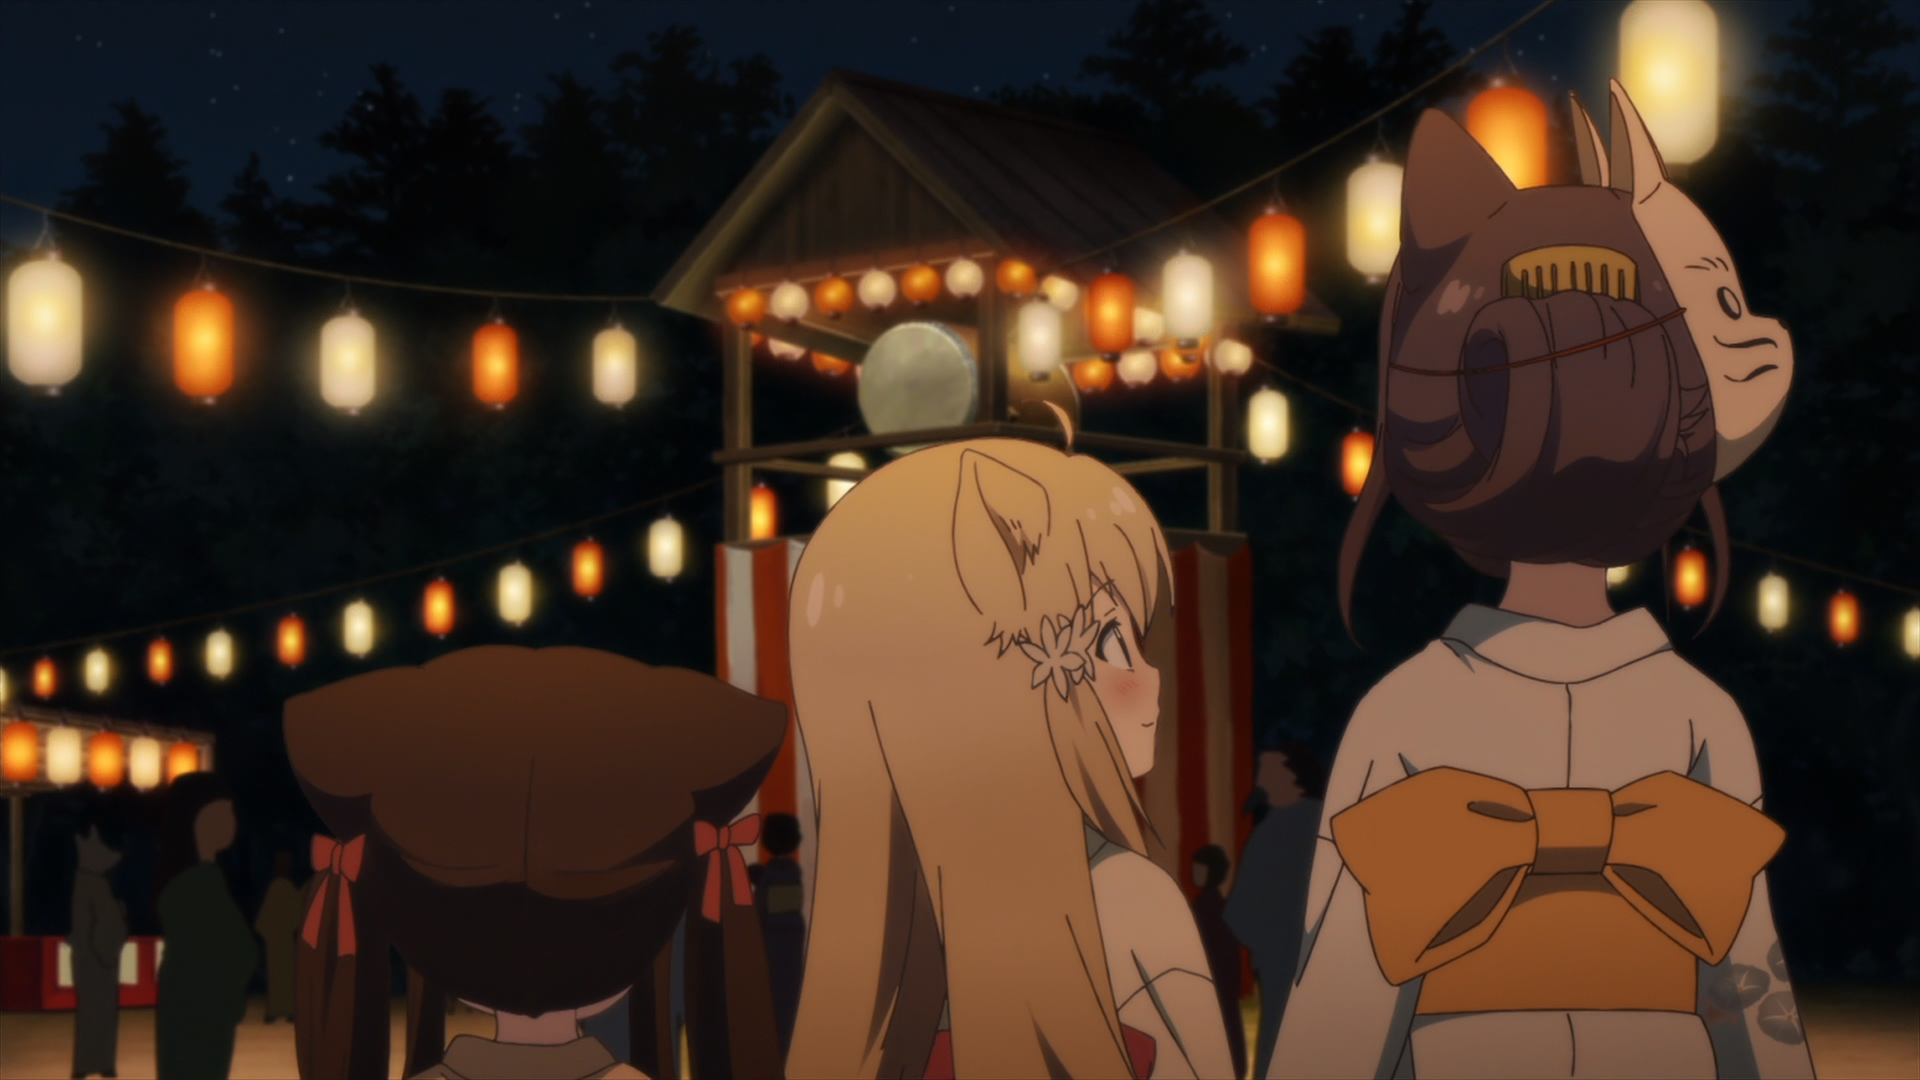柚: (785, 404, 1236, 1080)
樱: (282, 645, 793, 1080)
皋: (1266, 80, 1813, 1080)
